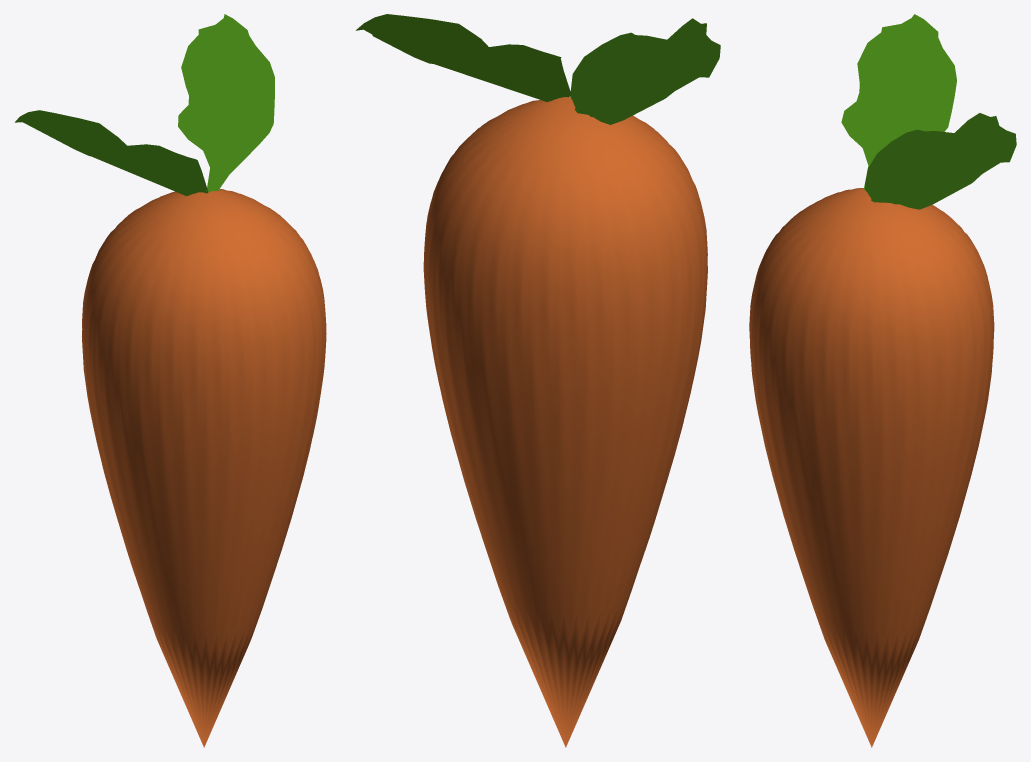
The model's file is carrot.fbx.
3 views of the same model, side by side, from view 1: azimuth 30°, elevation 25°; view 2: azimuth 150°, elevation 25°; view 3: azimuth 270°, elevation 25° (orthographic). The views are drawn at different scales.
Parts seen in each view (by area): view 1: Cone; view 2: Cone; view 3: Cone.
Boxes of the visible parts, x1,y1,x2,y2 form: Cone: (15, 14, 326, 747); Cone: (356, 14, 720, 747); Cone: (749, 14, 1016, 747).
Bounding box in the file's own units: 165 × 380 × 140.
